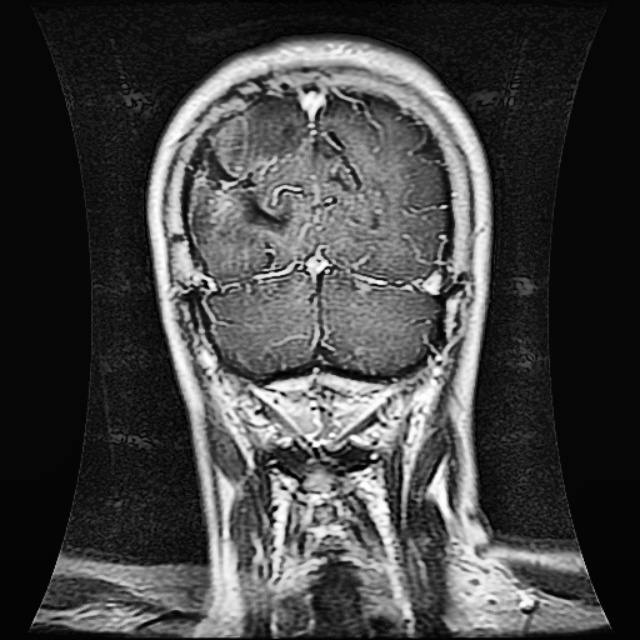Meningioma: (200, 99, 309, 232)
